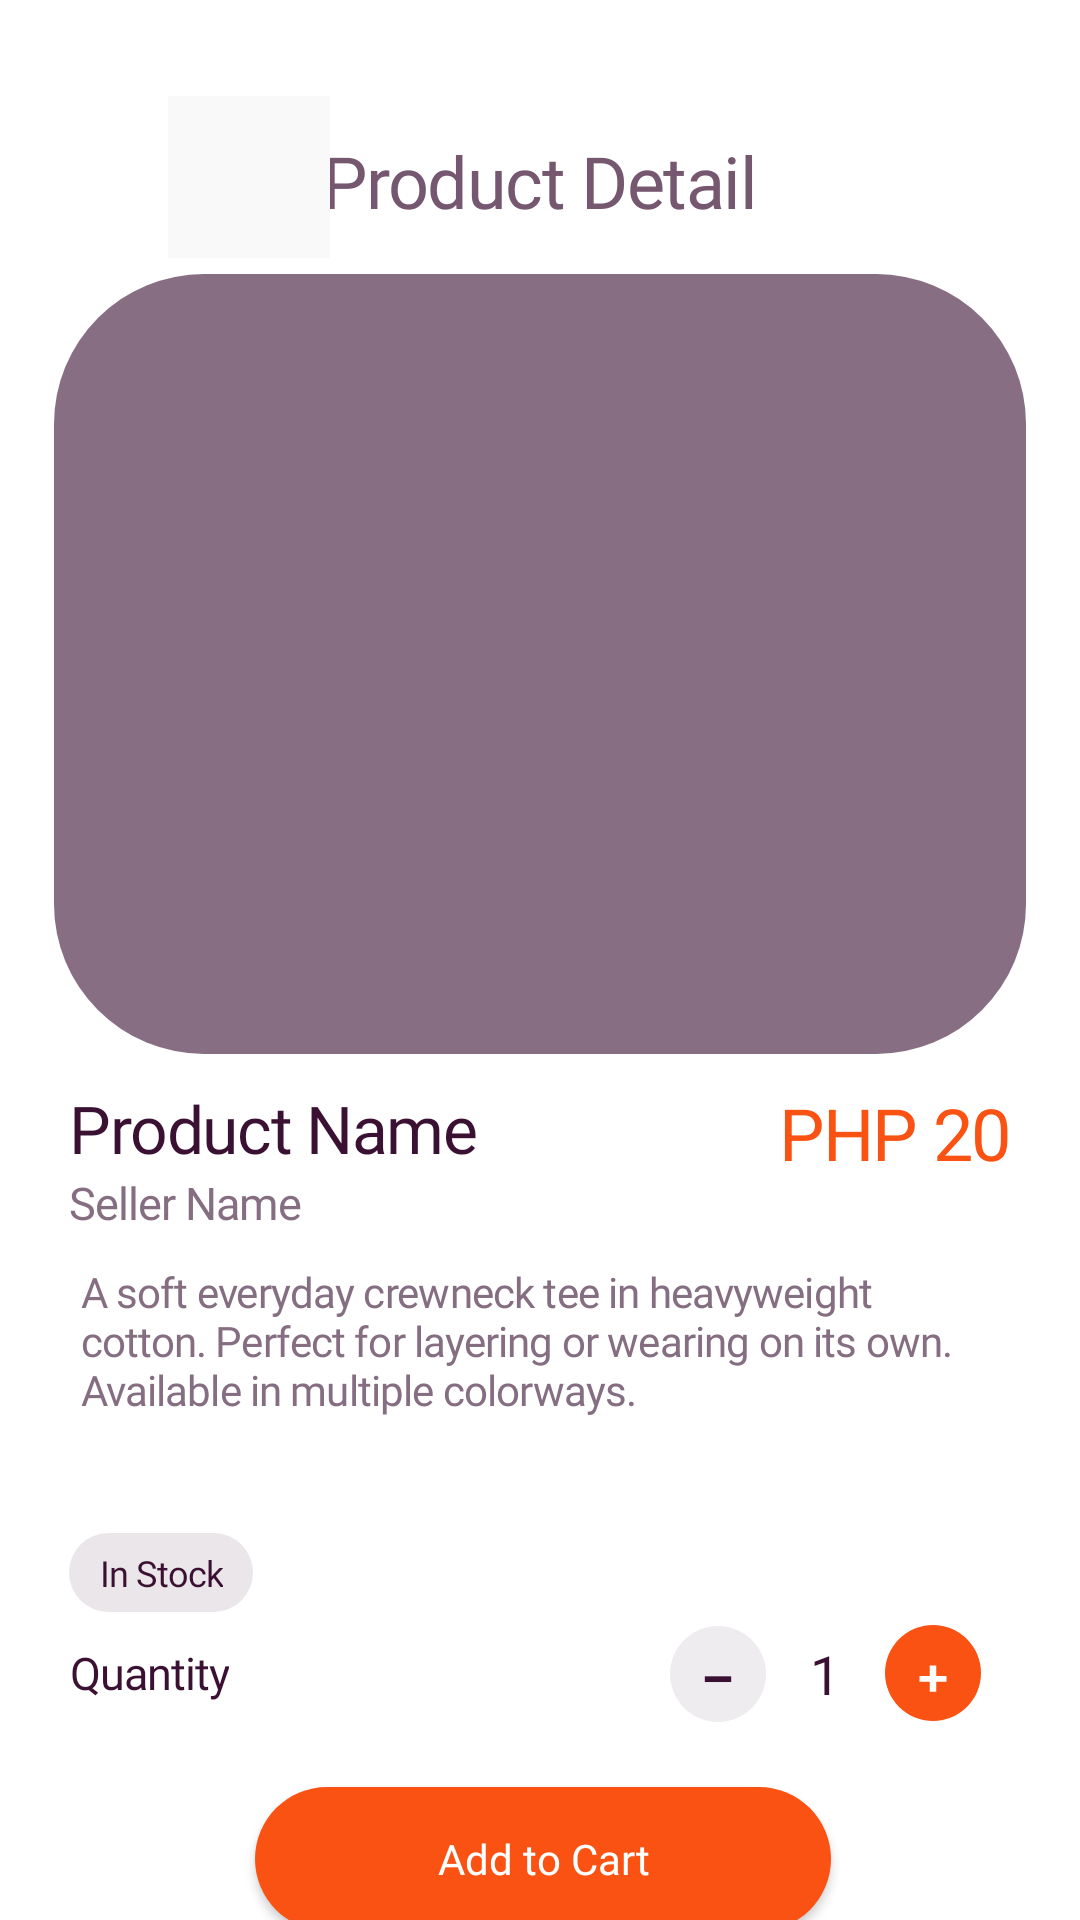

Icons on this 1080px x 1920px Android screen, each with its box as Rect(x1, y1, x2, y2):
minus: Rect(704, 1676, 732, 1683)
plus: Rect(885, 1625, 981, 1721)
